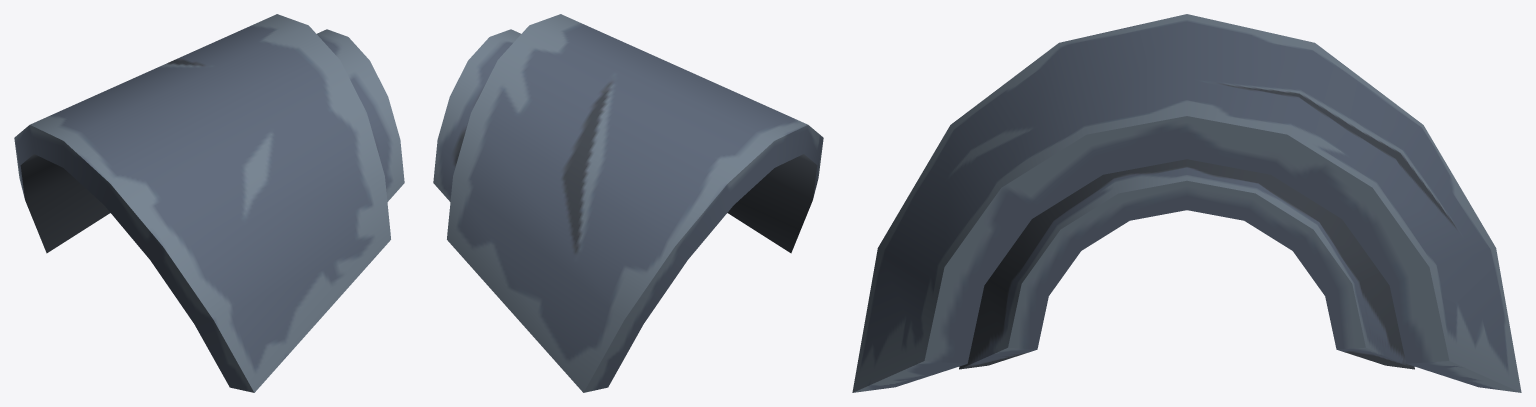
Rendered from Pouldron2.fbx.
The picture shows the model from 3 angles, left to right: view 1: azimuth 30°, elevation 25°; view 2: azimuth 150°, elevation 25°; view 3: azimuth 270°, elevation 25°; orthographic projection. The views are drawn at different scales.
Parts seen in each view (by area): view 1: Pouldron2; view 2: Pouldron2; view 3: Pouldron2.
Part boxes in pixels (box(x1,y1,x2,y2)): Pouldron2: box(14, 14, 404, 392); Pouldron2: box(433, 14, 823, 392); Pouldron2: box(852, 14, 1521, 392).
Size of the model in its own units: 23.79 by 20.23 by 30.39.
